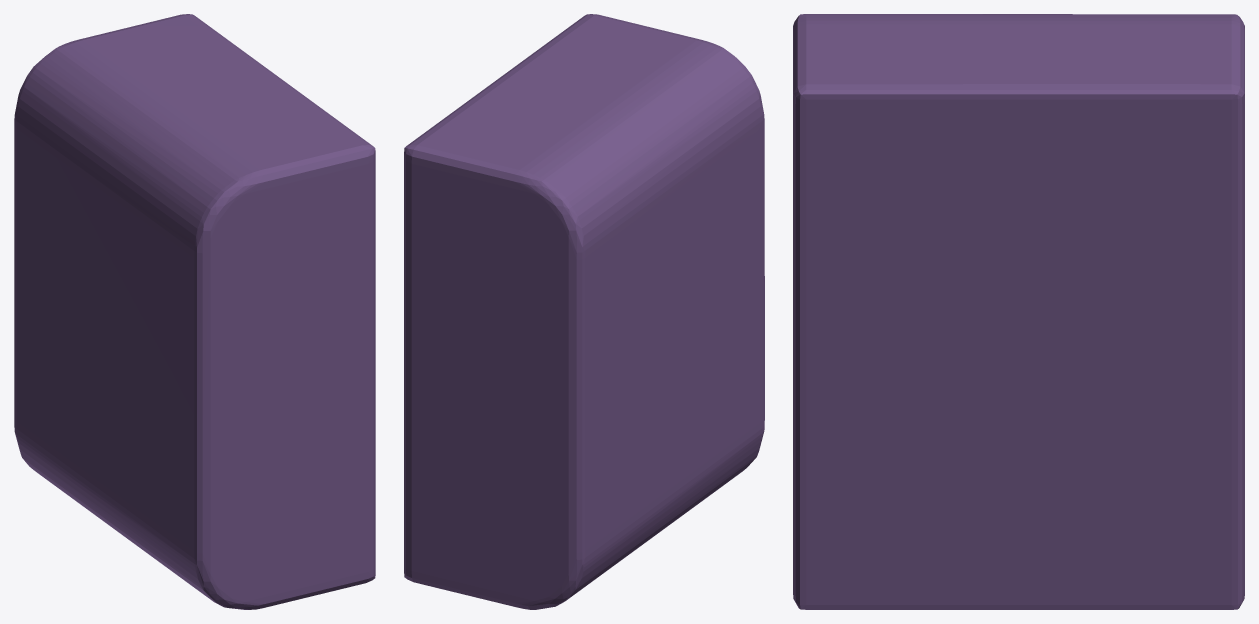
Rendered from left_lf_metacarpal_part_1.obj.
The picture shows the model from 3 angles, left to right: view 1: azimuth 30°, elevation 25°; view 2: azimuth 150°, elevation 25°; view 3: azimuth 270°, elevation 25°; orthographic projection. The views are drawn at different scales.
Bounding box in the file's own units: 9.61 × 22.4 × 17.53.
